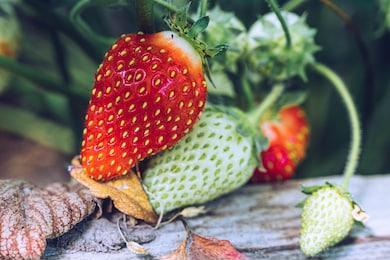Fresa: (76, 21, 214, 187)
